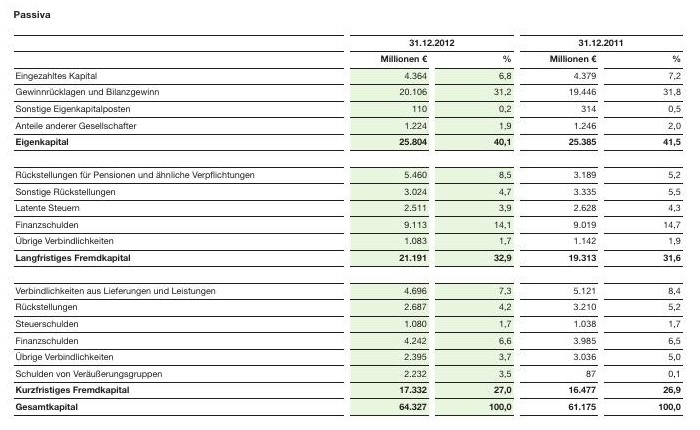table: (0, 0, 700, 430)
